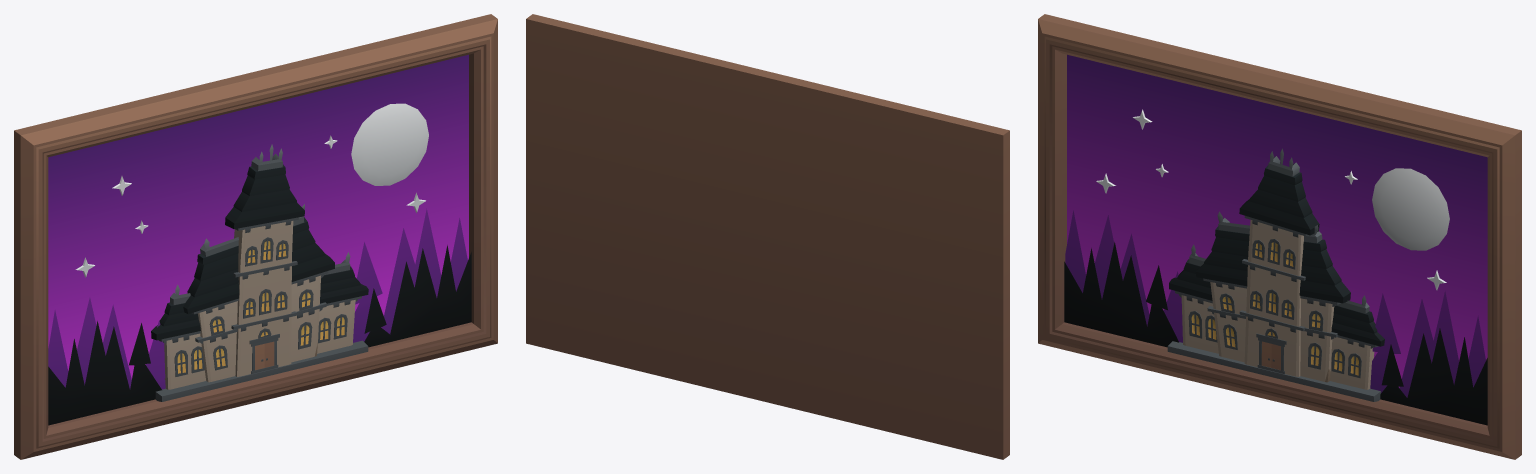
File: frame_C.gltf
The picture shows the model from 3 angles, left to right: view 1: azimuth 30°, elevation 25°; view 2: azimuth 150°, elevation 25°; view 3: azimuth 330°, elevation 25°; orthographic projection.
Visible parts, largest first — view 1: frame_C; view 2: frame_C; view 3: frame_C.
Boxes of the visible parts, x1,y1,x2,y2 form: frame_C: [14, 14, 497, 459]; frame_C: [526, 14, 1009, 459]; frame_C: [1038, 14, 1521, 459].
Bounding box in the file's own units: 2 × 1.3 × 0.0916.
1 material, 1 textured.
